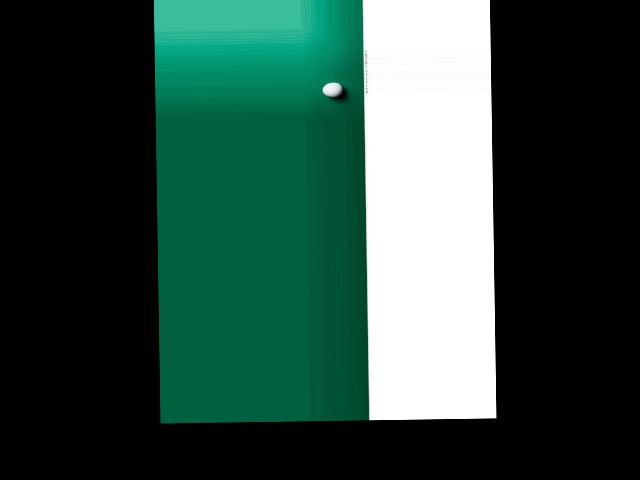egg: (322, 81, 343, 96)
